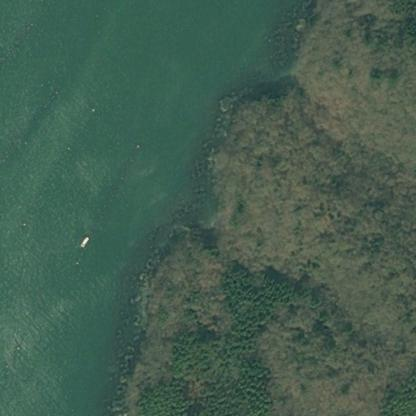ship: (73, 231, 94, 251)
